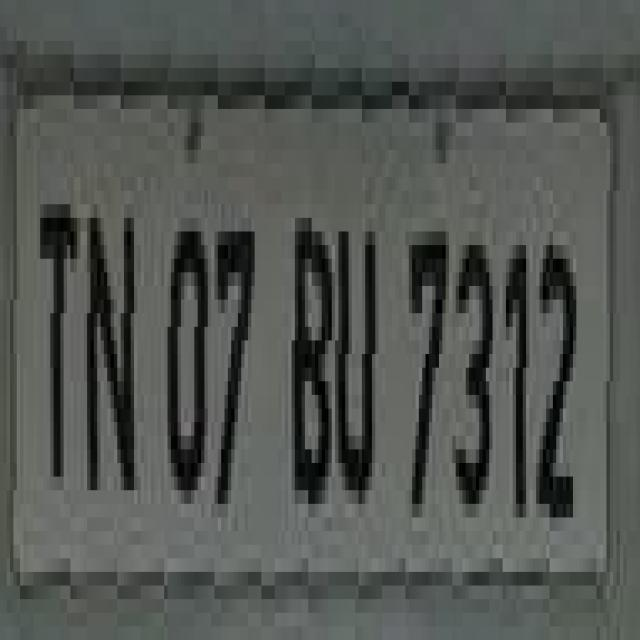license_plate: (0, 41, 617, 613)
